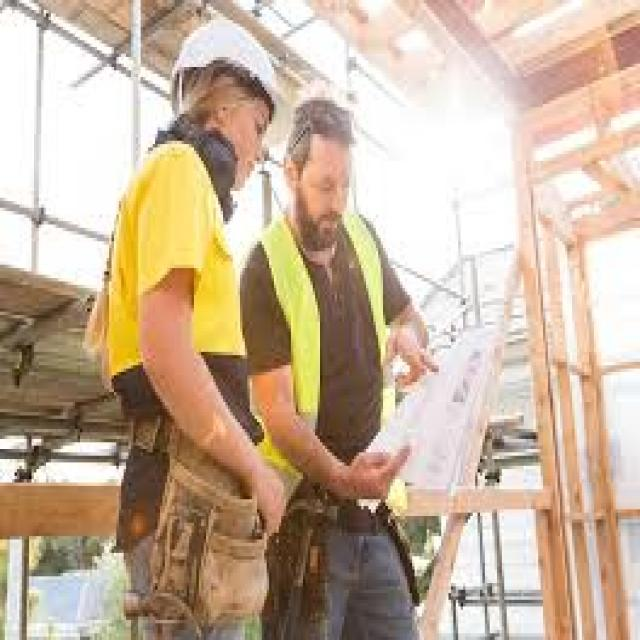Reflective-Jacket: (247, 208, 412, 533)
Safety-Helmet: (165, 17, 286, 114)
